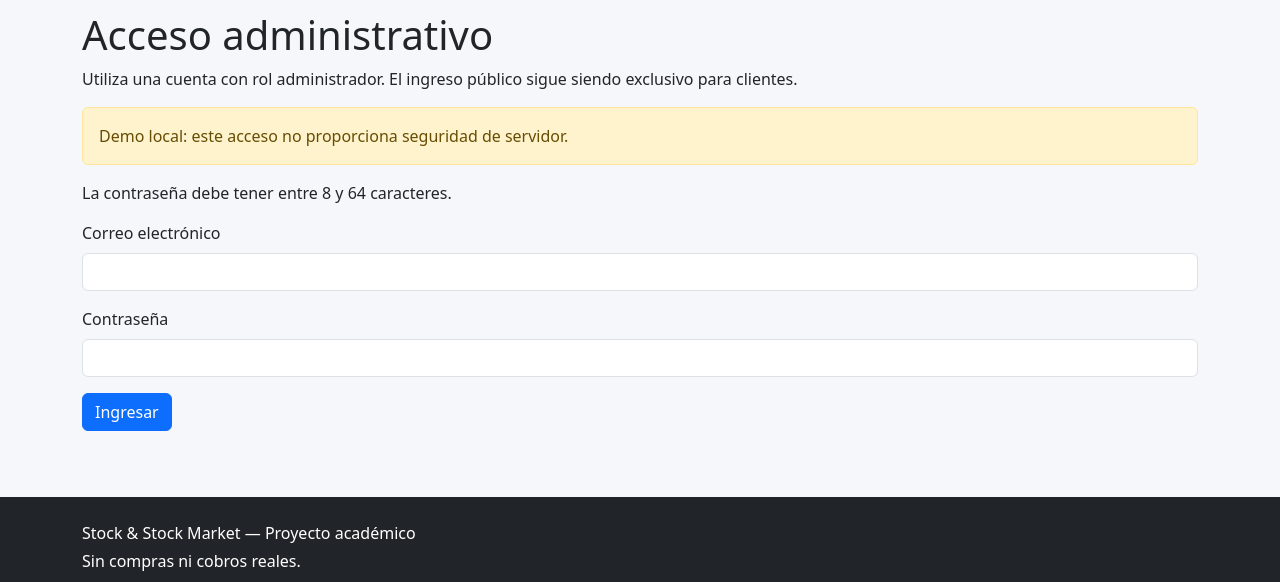
Scenario: Administración integrada › protege al último administrador desde botones y formulario con mensajes visibles
Expected: the heading "Acceso administrativo" is shown, [82,7,493,62]
Step 1. Type "admin@duoc.cl" into the field labelled "Correo electrónico" → point(640, 272), box [82,253,1198,291]
Step 2. Type "AdminDemo123" into the password field labelled "Contraseña" → point(640, 358), box [82,339,1198,377]
Step 3. Click the button "Ingresar" → point(127, 412), box [82,393,172,431]
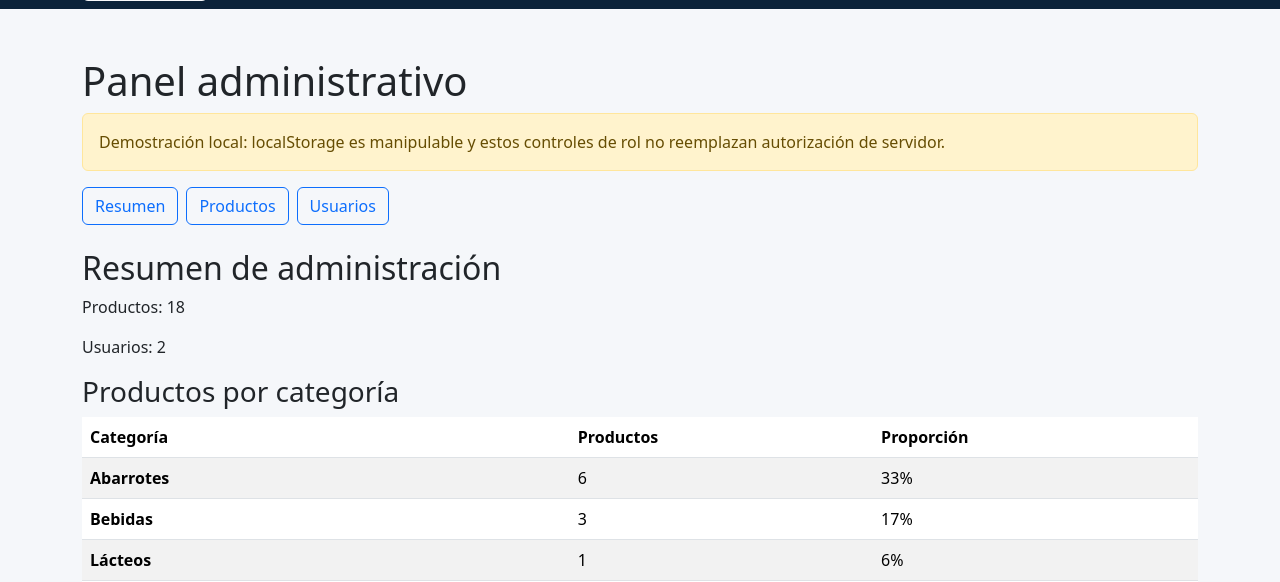
Expected: the heading "Panel administrativo" is shown, [82,53,468,108]
Step 4. Click the button "Usuarios" → point(343, 206), box [297,187,389,225]
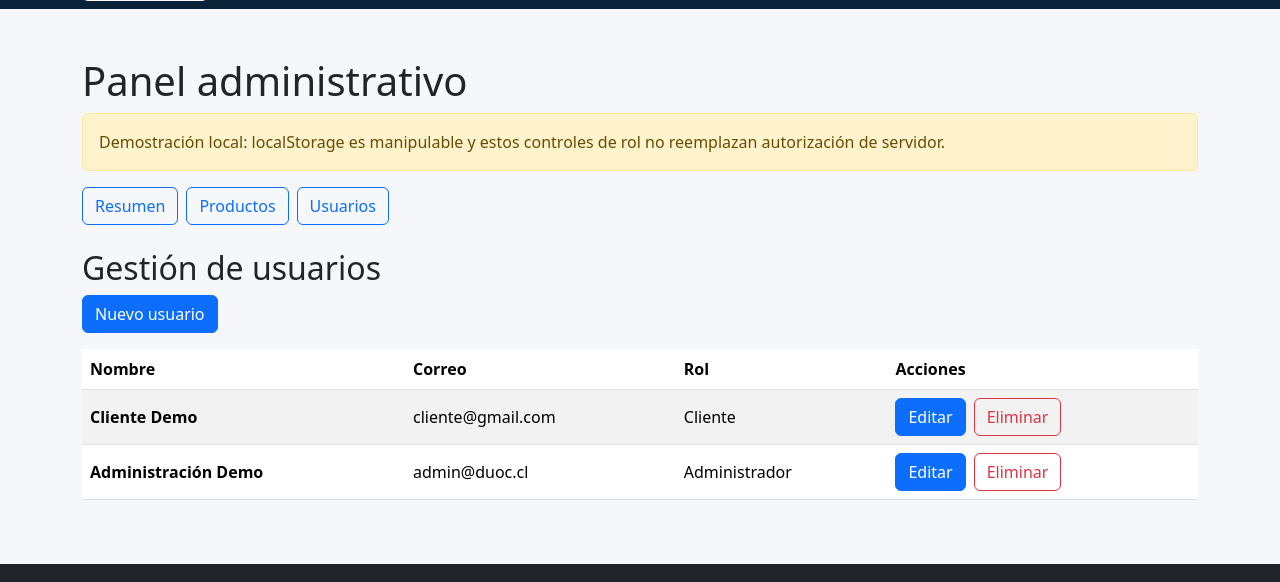
Step 5. Click the button with aria-label "Eliminar Administración Demo" → point(1018, 472), box [974,453,1061,491]
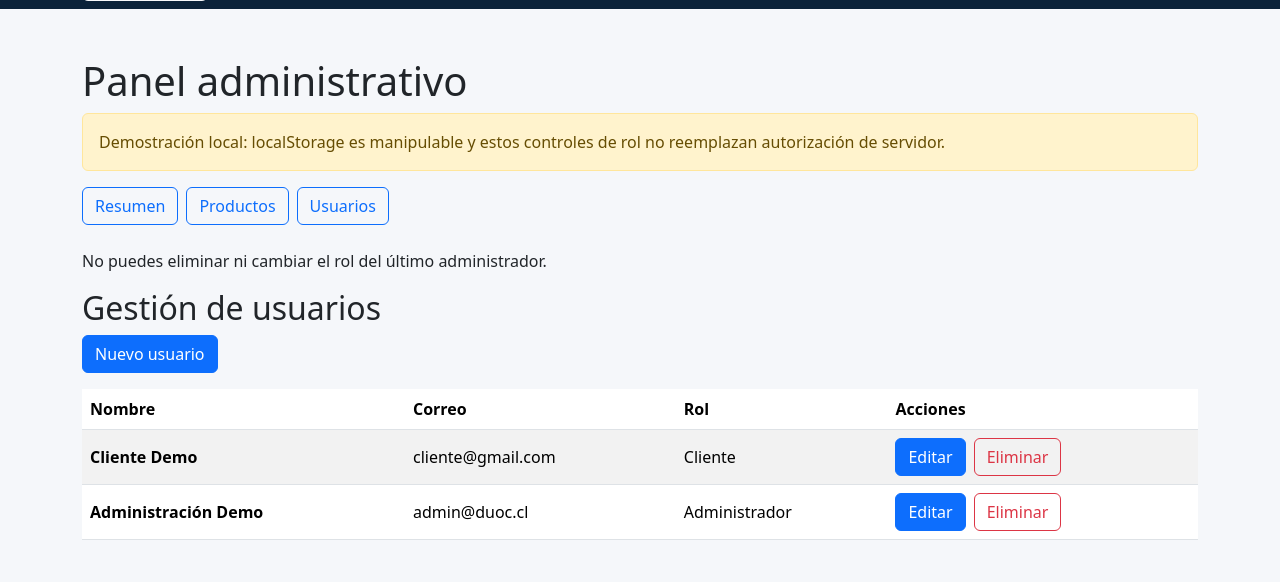
Expected: the text "No puedes eliminar ni cambiar el rol del último administrador." is shown, [82,250,547,272]
Step 6. Click the button with aria-label "Editar Administración Demo" → point(930, 512), box [895,493,966,531]
(page scrolled)
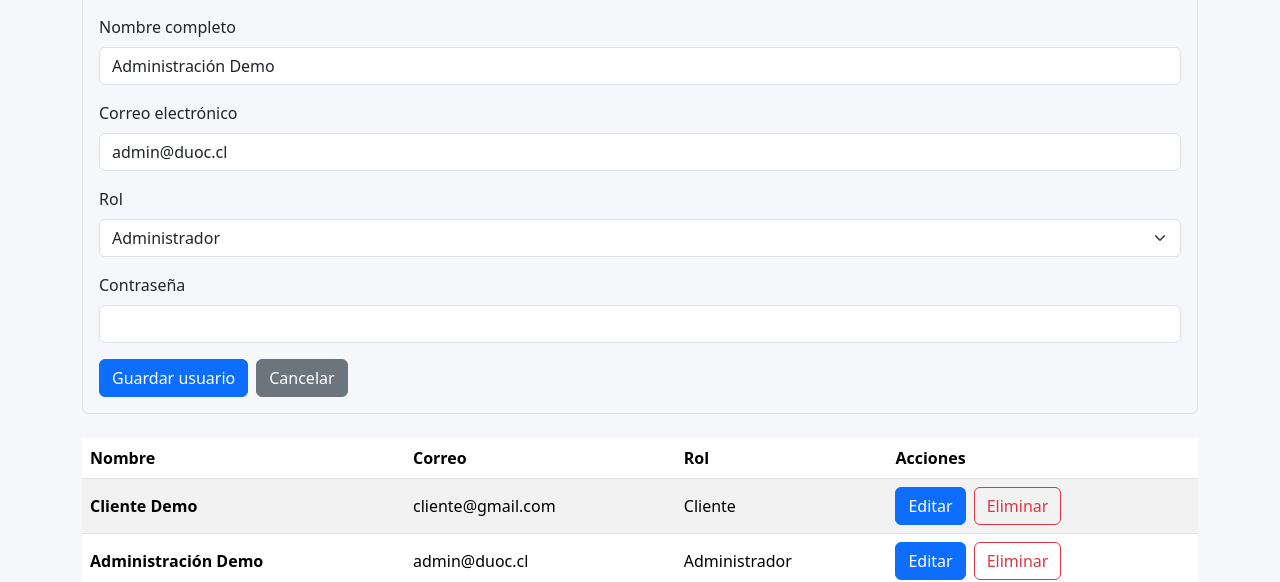
Step 7. Select "Cliente" in the dropdown labelled "Rol" → point(640, 238), box [99,219,1181,257]
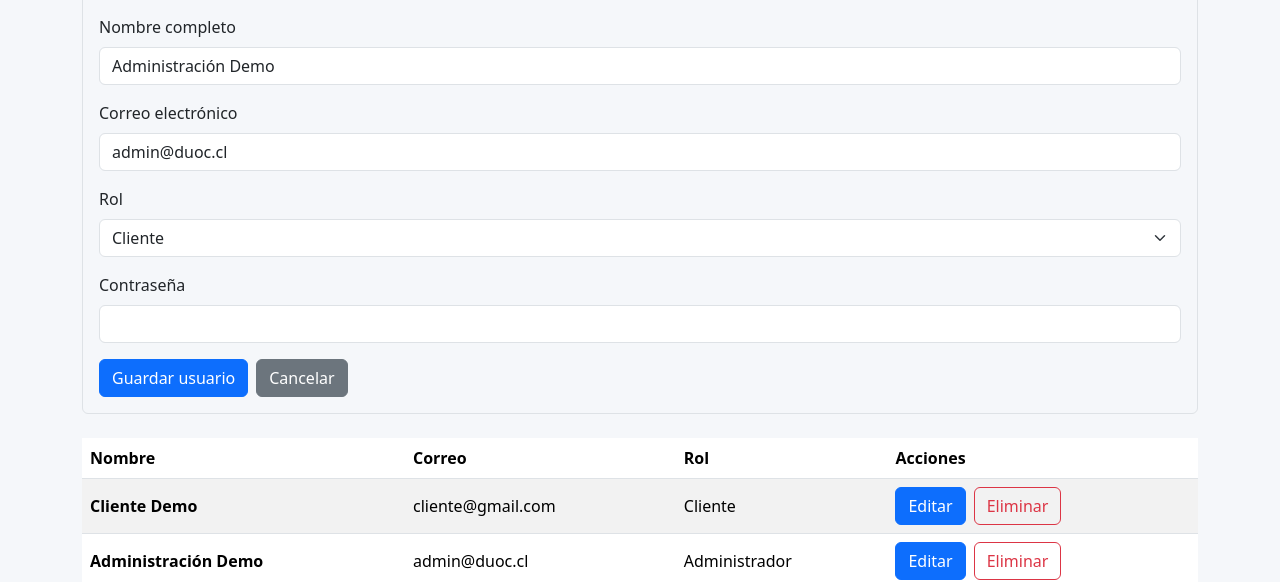
Step 8. Click the button "Guardar usuario" → point(174, 378), box [99,359,248,397]
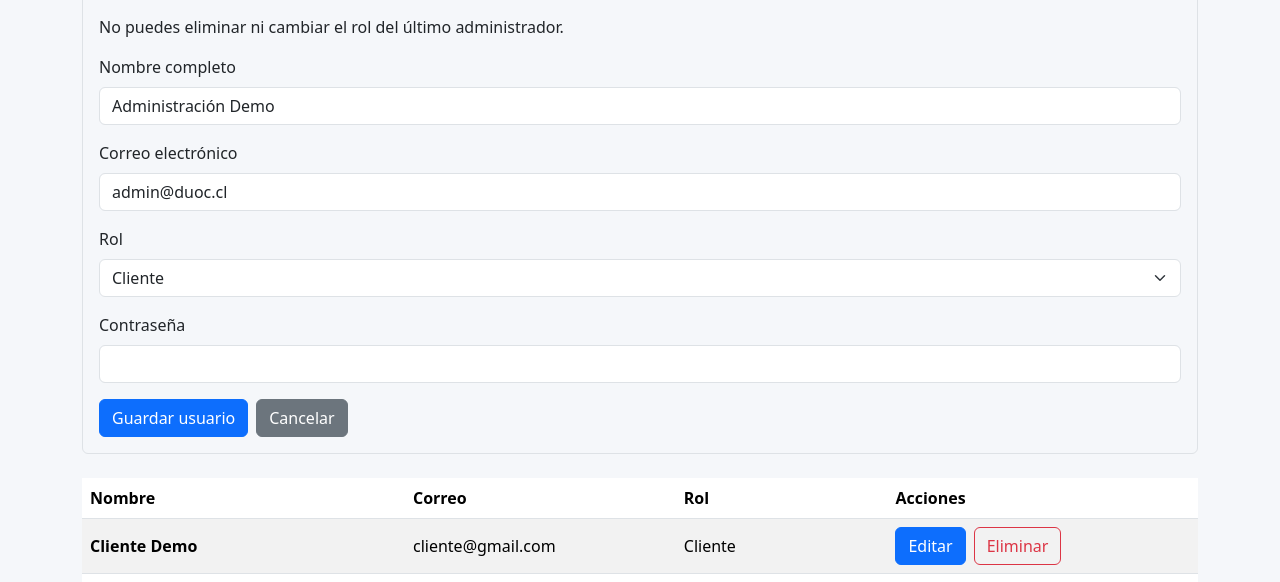
Expected: the text "No puedes eliminar ni cambiar el rol del último administrador." is shown, [99,16,564,38]
